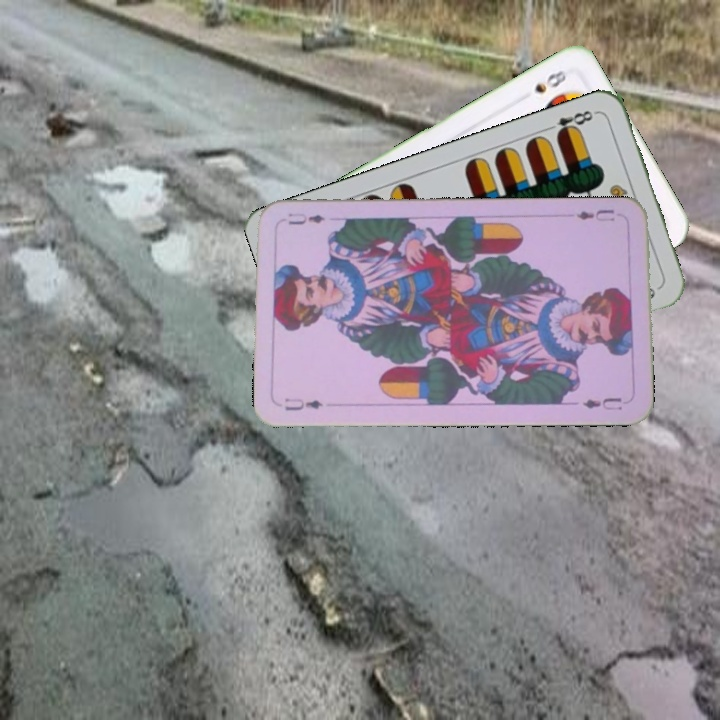E8: (542, 106, 600, 141)
EU: (572, 205, 617, 224), (281, 394, 325, 413)
S8: (530, 64, 572, 96)
